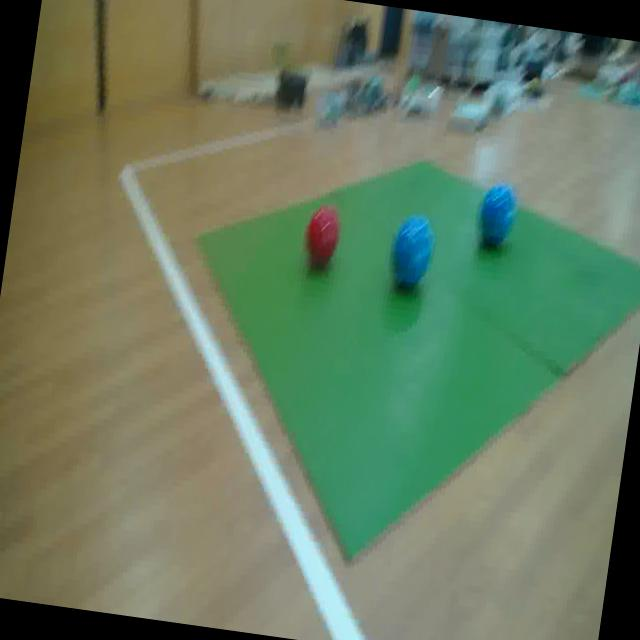blue_ball: (384, 212, 439, 296), (473, 179, 520, 253)
red_ball: (302, 201, 344, 267)
